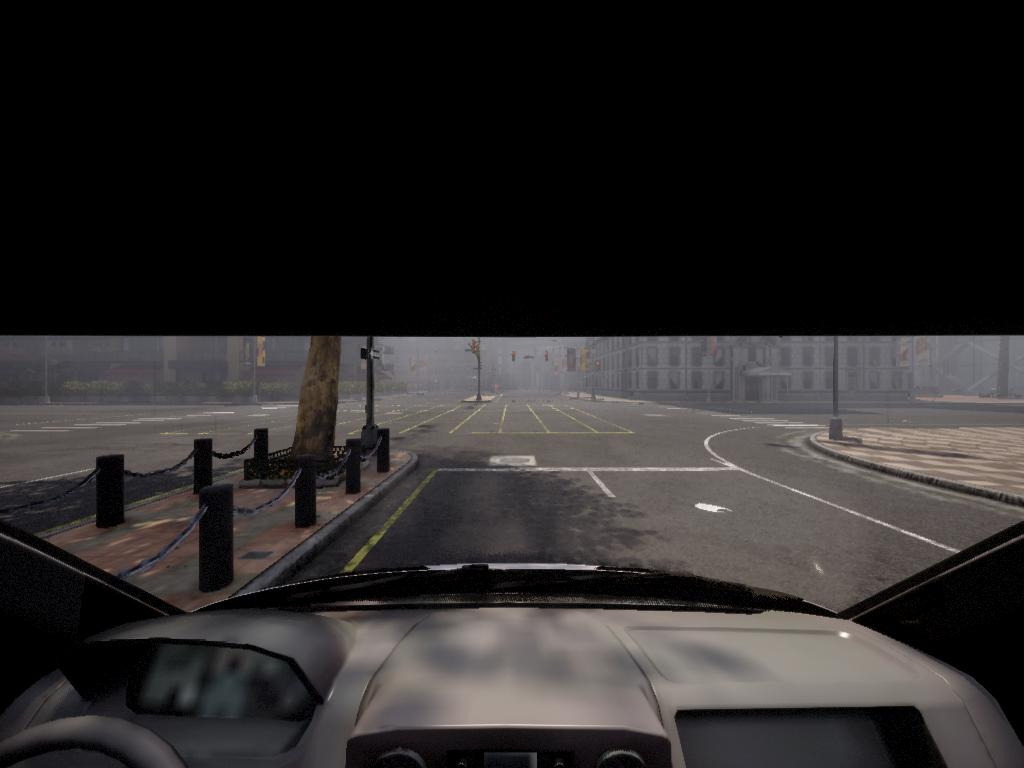traffic_light: (596, 360, 603, 376), (545, 350, 550, 364), (512, 352, 517, 363)
